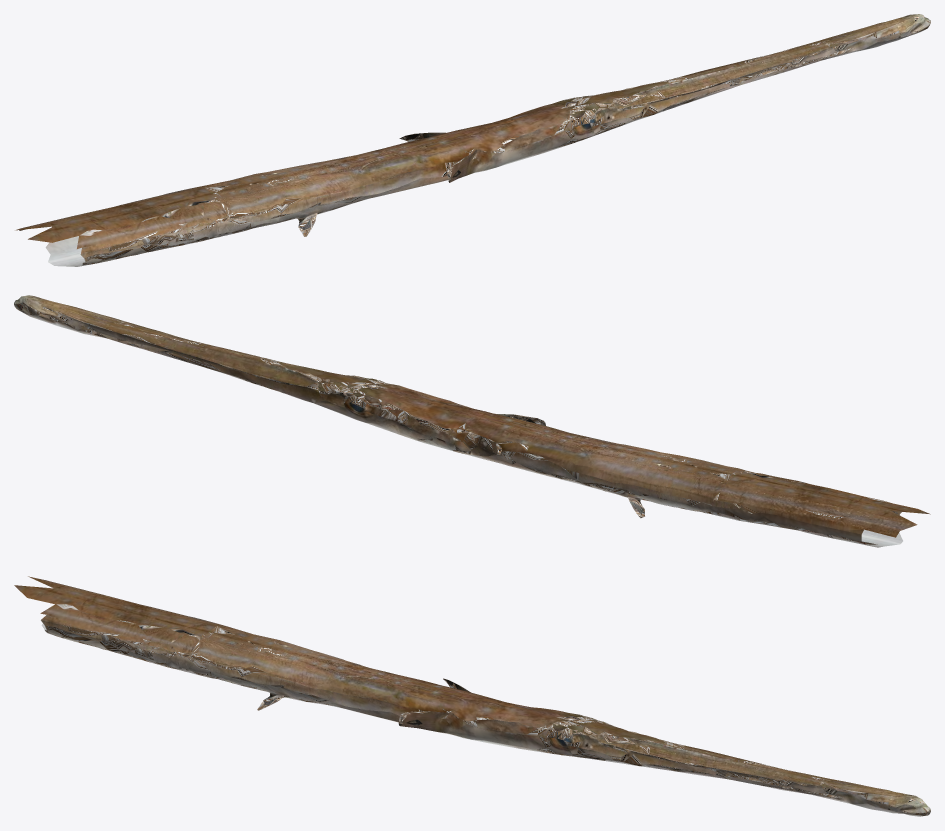
Rendered from cornet_a.glb.
The picture shows the model from 3 angles, top to bottom: view 1: azimuth 30°, elevation 25°; view 2: azimuth 150°, elevation 25°; view 3: azimuth 330°, elevation 25°; orthographic projection.
Parts seen in each view (by area): view 1: cornet_a; view 2: cornet_a; view 3: cornet_a.
Boxes of the visible parts, bbox=[...] form: cornet_a: bbox=[15, 14, 930, 266]; cornet_a: bbox=[14, 295, 930, 547]; cornet_a: bbox=[14, 576, 930, 816].
Bounding box in the file's own units: 0.7551 × 0.0404 × 0.0689.
Materials: 1 (1 with a texture image).
